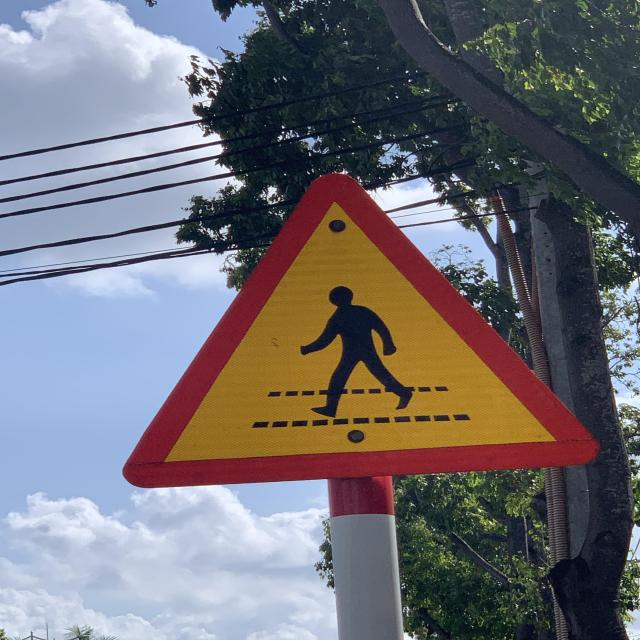Duong_Nguoi_Di_Bo_Sang_Ngang: (122, 168, 608, 486)
